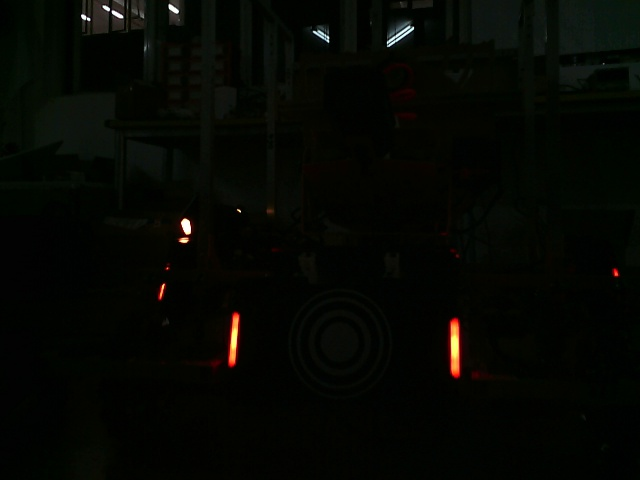lamp: (443, 316, 467, 380), (225, 310, 240, 368)
